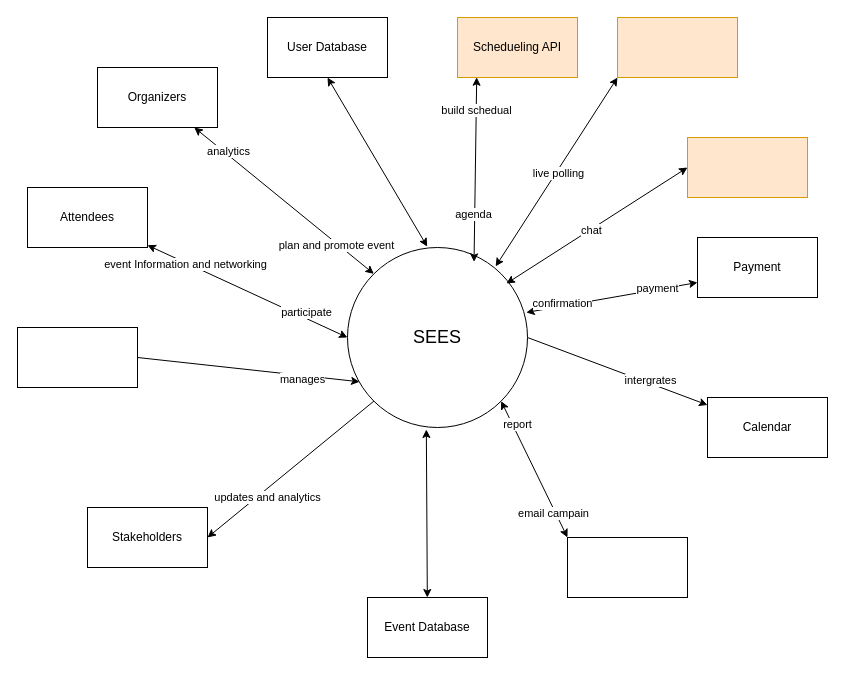
This 845x675 diagram has some shape labels left out. The centre of each missing label's shape, as x and y in pixels:
"Administrative users" goes at point 77,357.
"Chatroom API" goes at point 747,167.
"Email Server" goes at point 627,567.
"Polling API" goes at point 677,47.
